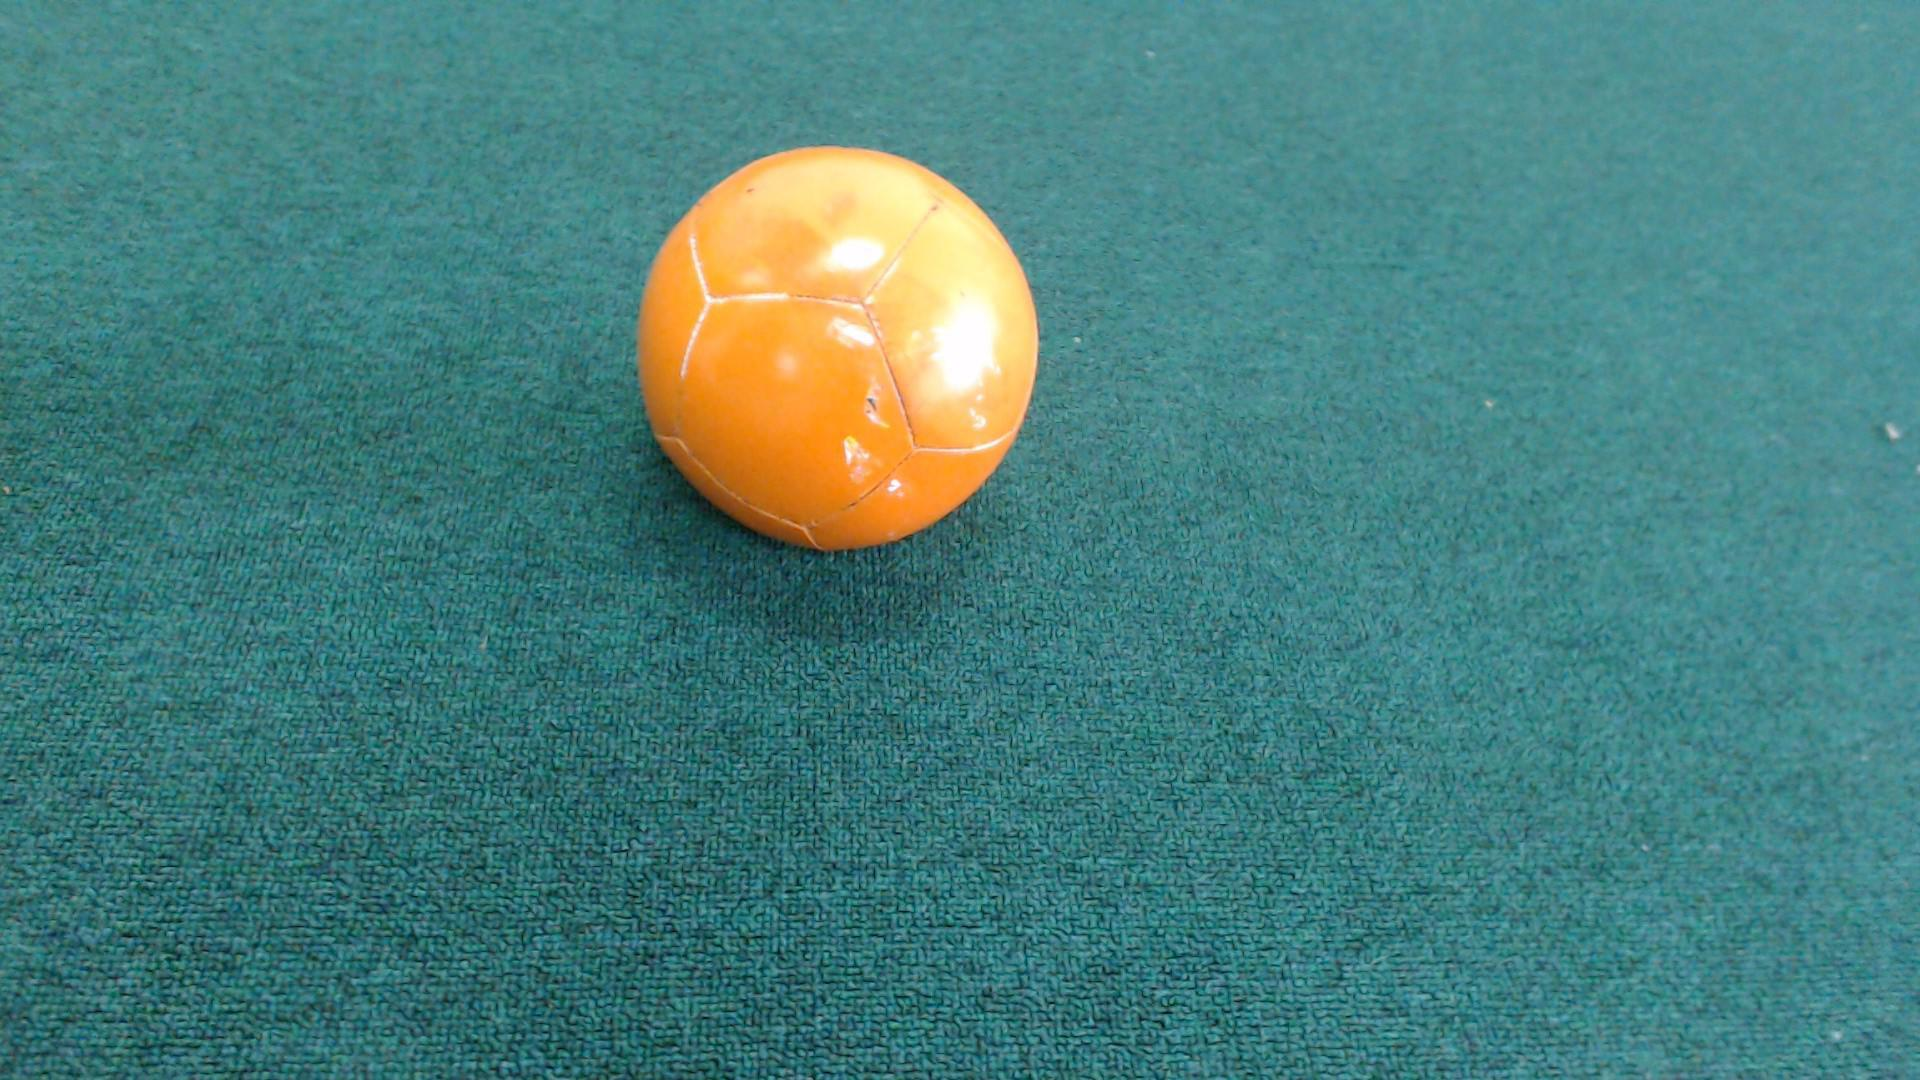bola: (582, 142, 1056, 579)
